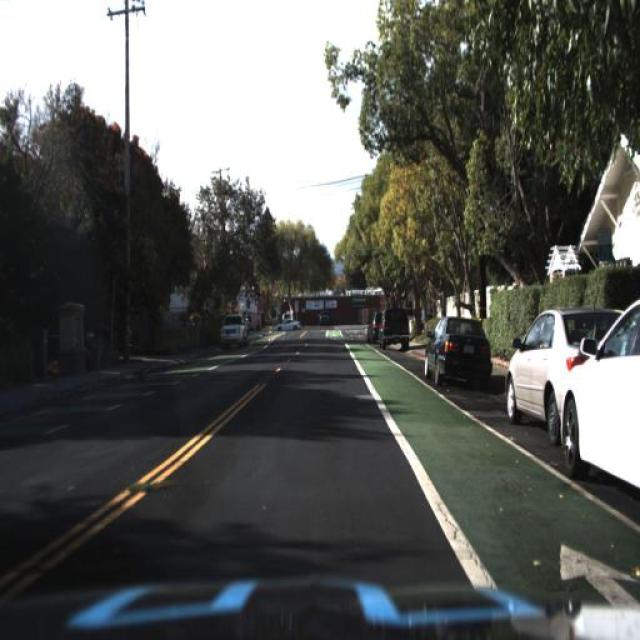car: (496, 309, 639, 443), (564, 296, 640, 498), (422, 308, 493, 392), (377, 304, 408, 354), (214, 308, 247, 346), (271, 310, 301, 335)
